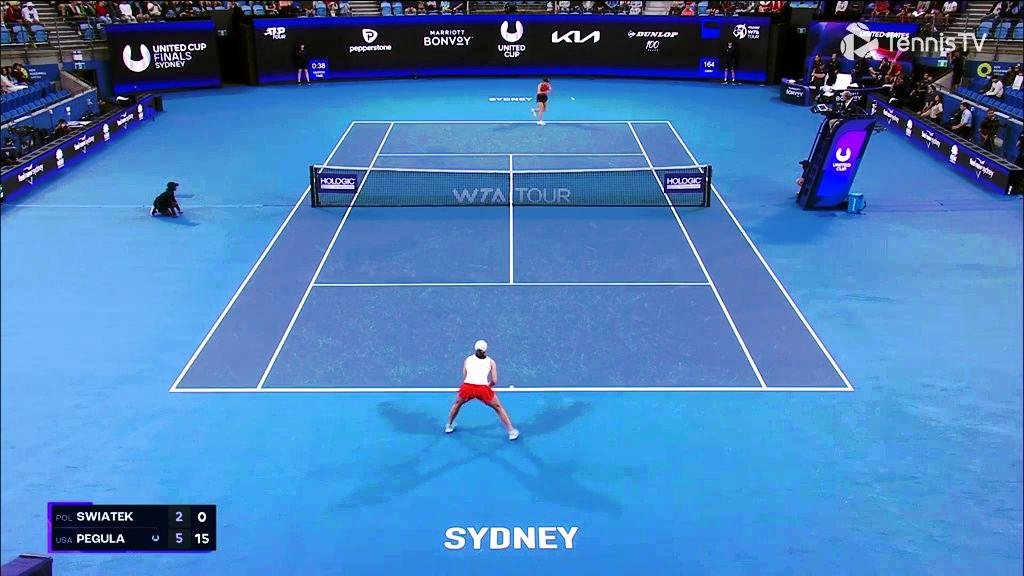tennis-court: (168, 121, 856, 392)
